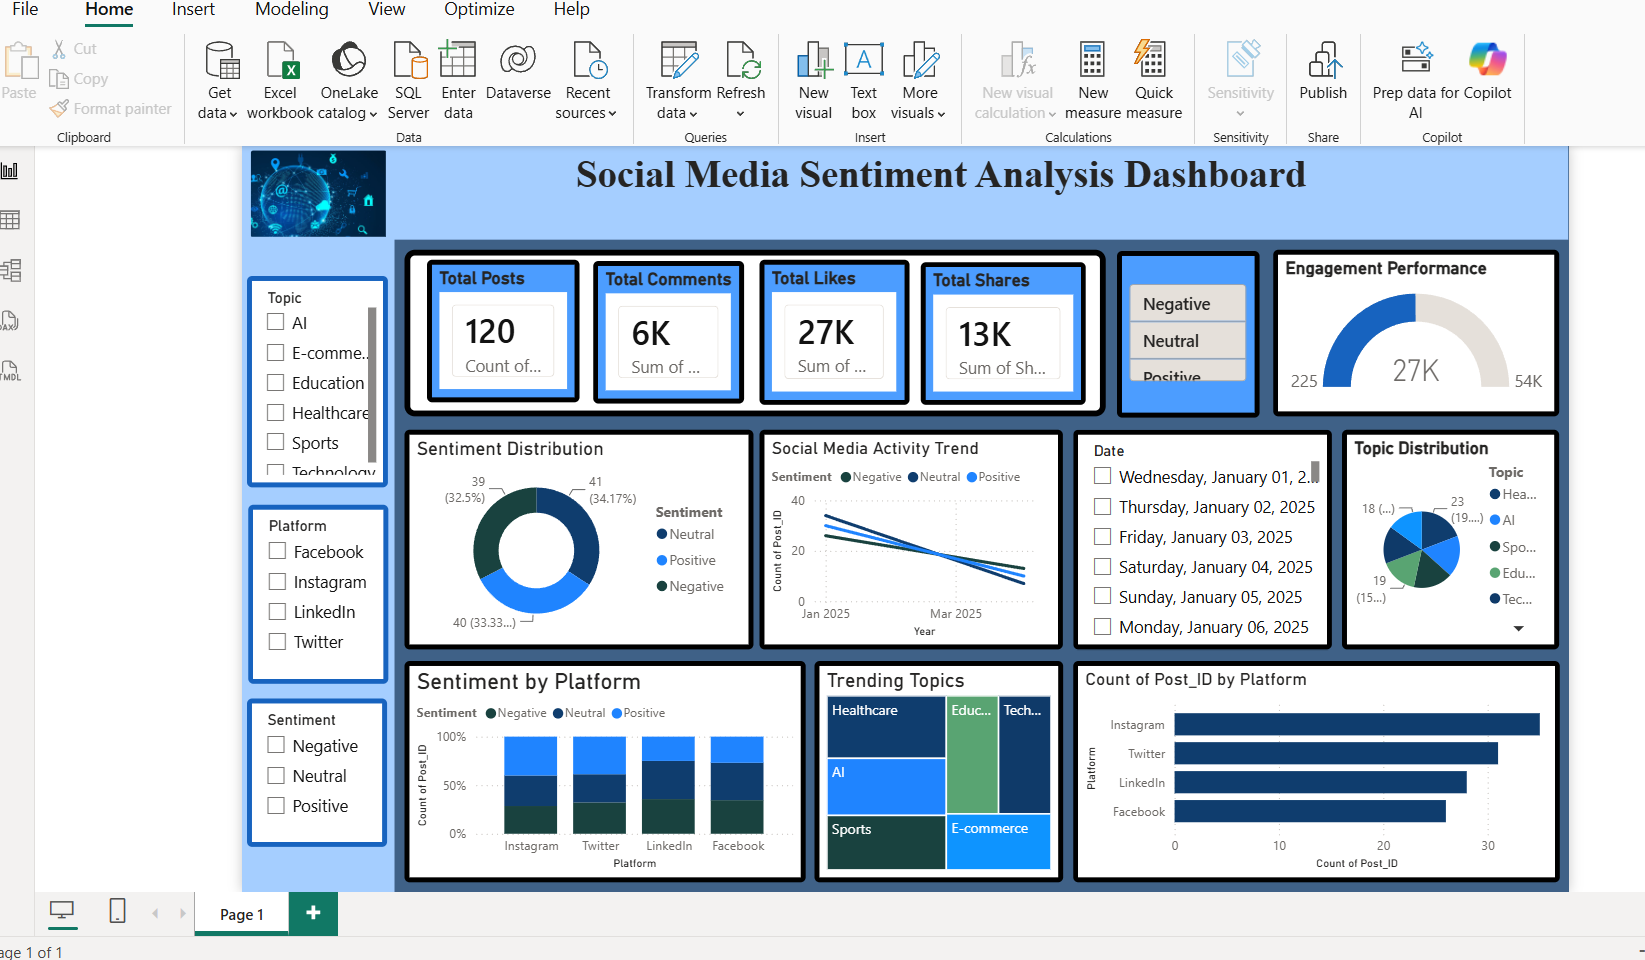

The page's visual inventory and layout, read from the dashboard file:
{"tool":"powerbi","page":{"name":"Page 1","canvas":[1280,720],"ordinal":0},"visuals":[{"type":"textbox","box":[177,28.8,929,56.3],"z":0},{"type":"cardVisual","fields":{"Data":["CountNonNull(social_media_sentiment_dataset.Post_ID)"]},"box":[22,100.2,196.2,150.9],"z":1000},{"type":"cardVisual","fields":{"Data":["Sum(social_media_sentiment_dataset.Likes)"]},"box":[256.6,100.2,196.2,150.9],"z":2000},{"type":"cardVisual","fields":{"Rows":["social_media_sentiment_dataset.Sentiment"]},"box":[1073.1,518.7,196.2,150.9],"z":3000},{"type":"donutChart","title":"Sentiment Distribution","fields":{"Category":["social_media_sentiment_dataset.Sentiment"],"Y":["CountNonNull(social_media_sentiment_dataset.Post_ID)"]},"box":[22,274.4,258,170.2],"z":4000},{"type":"cardVisual","fields":{"Data":["Sum(social_media_sentiment_dataset.Comment_Count)"]},"box":[500.9,100.2,196.2,150.9],"z":5000},{"type":"hundredPercentStackedColumnChart","title":"       Sentiment by Platform","fields":{"Category":["social_media_sentiment_dataset.Platform"],"Series":["social_media_sentiment_dataset.Sentiment"],"Y":["CountNonNull(social_media_sentiment_dataset.Post_ID)"]},"box":[303.3,274.4,336.2,212.7],"z":6000},{"type":"treemap","title":"Trending Topics","fields":{"Group":["social_media_sentiment_dataset.Topic"],"Values":["CountNonNull(social_media_sentiment_dataset.Post_ID)"]},"box":[657.3,274.4,312.9,203.1],"z":7000},{"type":"lineChart","title":"Social Media Activity Trend","fields":{"Category":["social_media_sentiment_dataset.Date.Variation.Date Hierarchy.Year","social_media_sentiment_dataset.Date.Variation.Date Hierarchy.Quarter","social_media_sentiment_dataset.Date.Variation.Date Hierarchy.Month","social_media_sentiment_dataset.Date.Variation.Date Hierarchy.Day"],"Y":["CountNonNull(social_media_sentiment_dataset.Post_ID)"],"Series":["social_media_sentiment_dataset.Sentiment"]},"box":[986.6,274.4,293.7,183.9],"z":8000},{"type":"slicer","fields":{"Values":["social_media_sentiment_dataset.Platform"]},"box":[22,509.1,218.2,168.8],"z":9000},{"type":"slicer","fields":{"Values":["social_media_sentiment_dataset.Sentiment"]},"box":[264.8,509.1,207.2,170.2],"z":10000},{"type":"slicer","fields":{"Values":["social_media_sentiment_dataset.Topic"]},"box":[495.4,506.3,201.7,170.2],"z":11000},{"type":"textbox","box":[725.9,506.3,337.6,171.5],"z":12000},{"type":"clusteredBarChart","fields":{"Category":["social_media_sentiment_dataset.Platform"],"Y":["CountNonNull(social_media_sentiment_dataset.Post_ID)"]},"box":[746.5,89.2,509.1,171.5],"z":13000}]}

Visuals, with their boxes on the page's 1280x720 design canvas (x1, y1, x2, y2). These are canvas units, not pixel positions in the 1645x960 screenshot, which may show the page scaled, cropped or inside an application window:
textbox: (left=177, top=29, right=1106, bottom=85)
cardVisual - CountNonNull(social_media_sentiment_dataset.Post_ID): (left=22, top=100, right=218, bottom=251)
cardVisual - Sum(social_media_sentiment_dataset.Likes): (left=257, top=100, right=453, bottom=251)
cardVisual - social_media_sentiment_dataset.Sentiment: (left=1073, top=519, right=1269, bottom=670)
"Sentiment Distribution" donutChart: (left=22, top=274, right=280, bottom=445)
cardVisual - Sum(social_media_sentiment_dataset.Comment_Count): (left=501, top=100, right=697, bottom=251)
"       Sentiment by Platform" hundredPercentStackedColumnChart: (left=303, top=274, right=640, bottom=487)
"Trending Topics" treemap: (left=657, top=274, right=970, bottom=478)
"Social Media Activity Trend" lineChart: (left=987, top=274, right=1280, bottom=458)
slicer - social_media_sentiment_dataset.Platform: (left=22, top=509, right=240, bottom=678)
slicer - social_media_sentiment_dataset.Sentiment: (left=265, top=509, right=472, bottom=679)
slicer - social_media_sentiment_dataset.Topic: (left=495, top=506, right=697, bottom=676)
textbox: (left=726, top=506, right=1064, bottom=678)
clusteredBarChart - social_media_sentiment_dataset.Platform x CountNonNull(social_media_sentiment_dataset.Post_ID): (left=746, top=89, right=1256, bottom=261)
